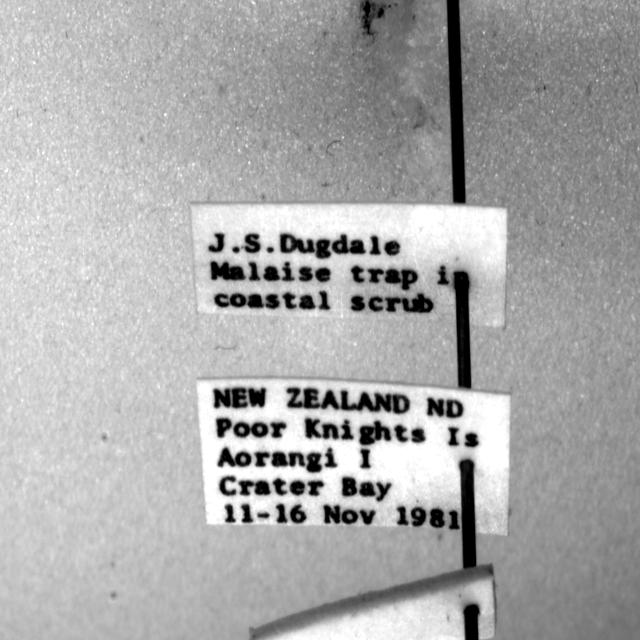typed_label: (196, 379, 510, 534), (191, 202, 506, 326)
